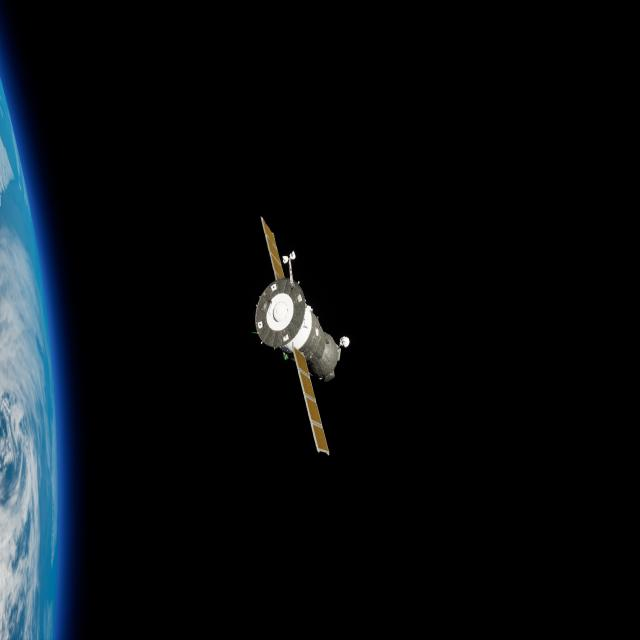Satellites revolving around earth: (251, 215, 351, 458)
